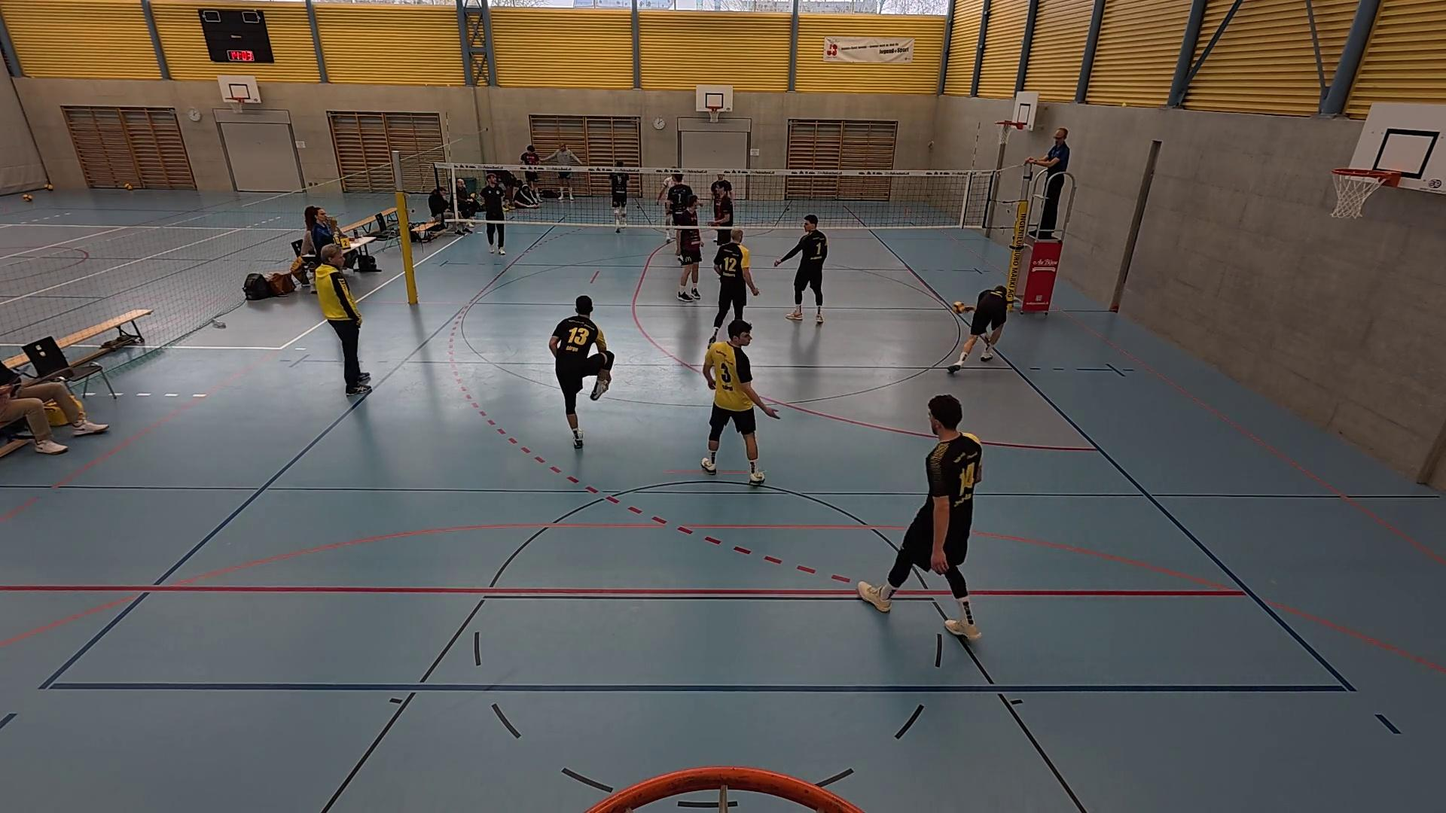Player: (860, 394, 981, 639), (701, 321, 779, 487), (549, 294, 612, 447), (945, 279, 1014, 376), (773, 215, 828, 324), (709, 227, 758, 346), (673, 206, 703, 301), (661, 174, 698, 245), (709, 175, 736, 243), (609, 163, 633, 233), (657, 172, 678, 243)
ball: (951, 298, 970, 316)
